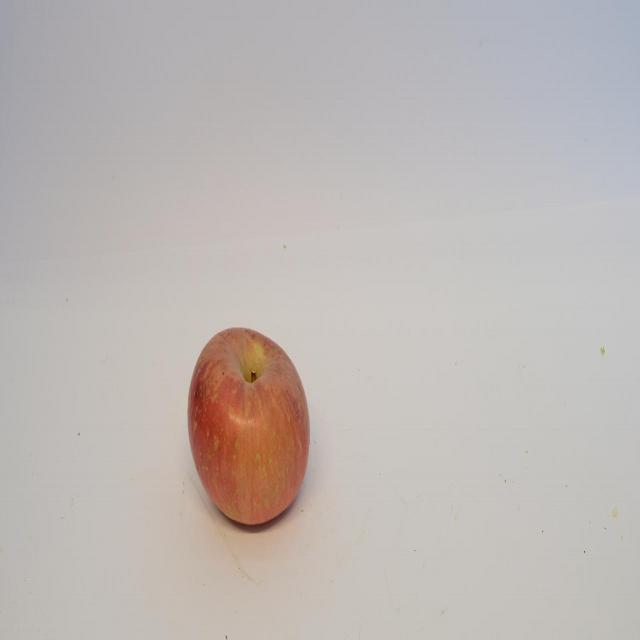apple: (187, 325, 312, 529)
